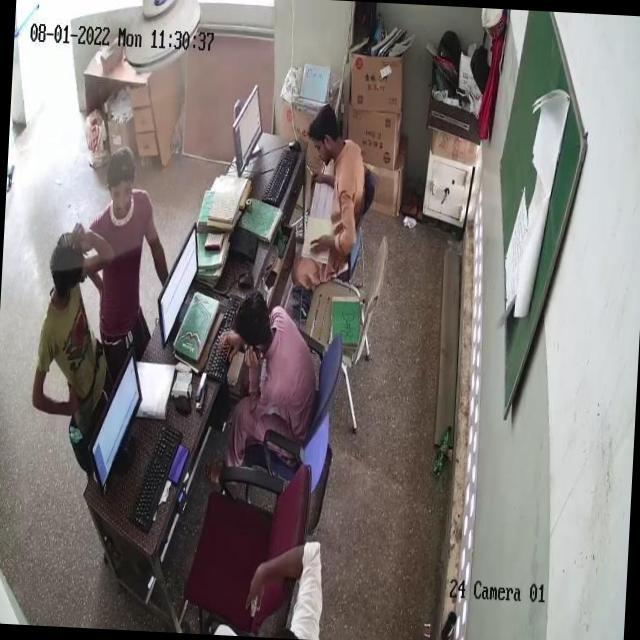person: (32, 230, 114, 418), (229, 294, 316, 434), (94, 160, 146, 356), (303, 106, 365, 268)
